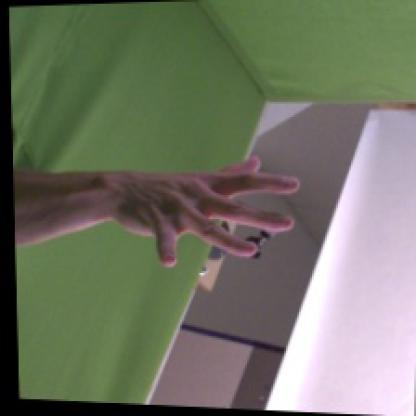Hand: (113, 155, 300, 270)
